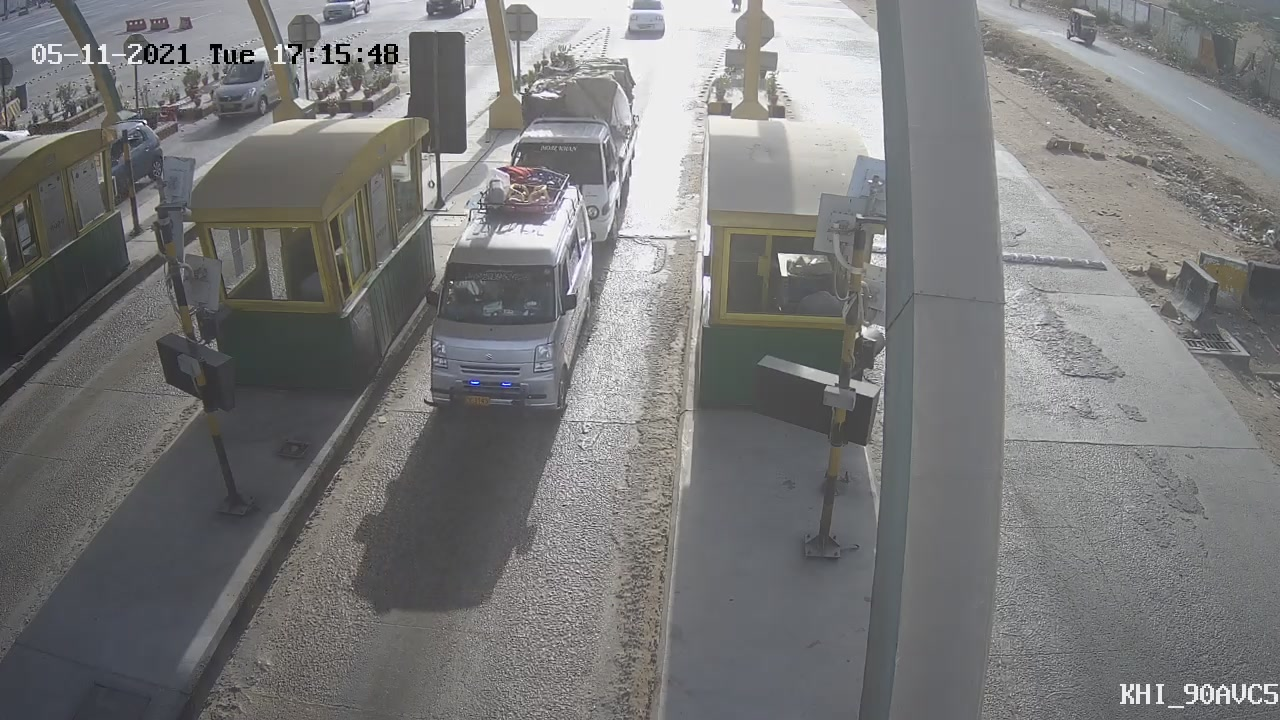F1: (404, 155, 616, 442)
